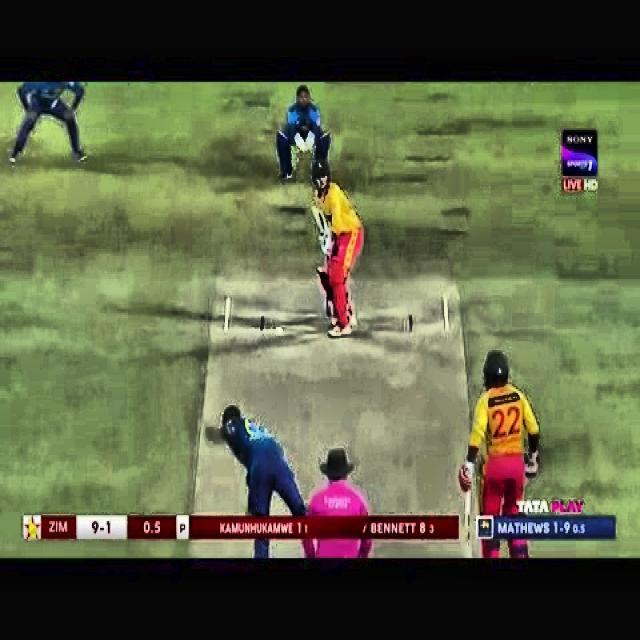Left-stump: (326, 293, 331, 317)
